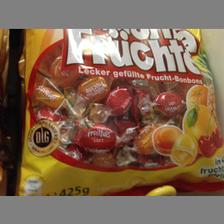Suessigkeit: (23, 29, 220, 193)
